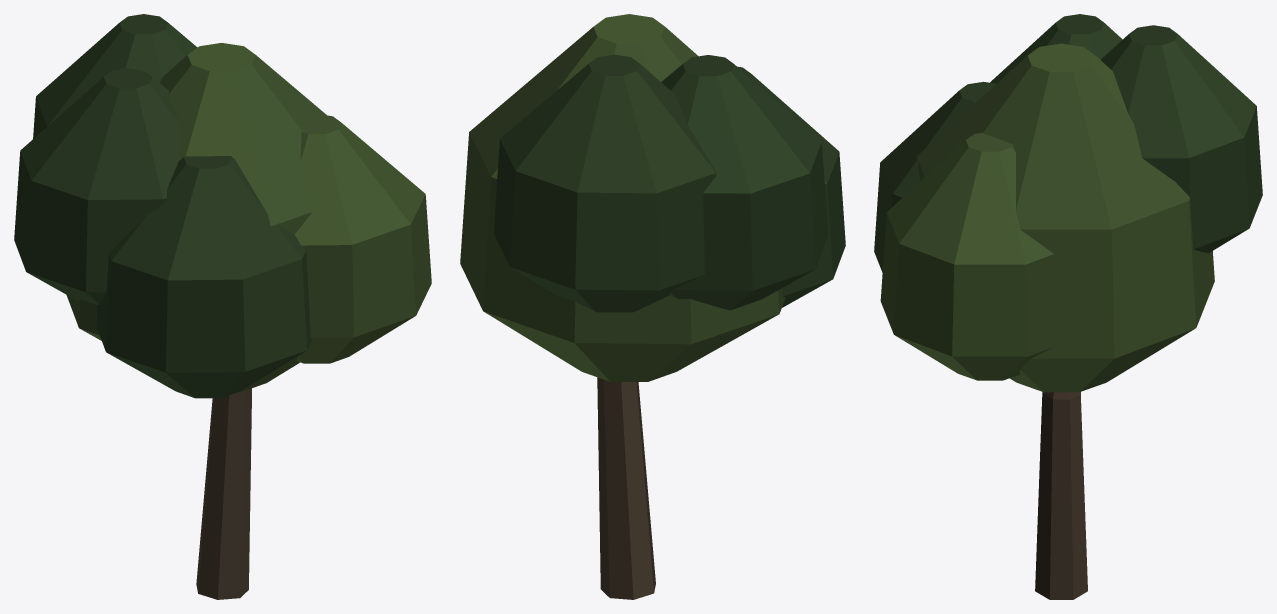
The model's file is walk_prop_tree.glb.
3 views of the same model, side by side, from view 1: azimuth 30°, elevation 25°; view 2: azimuth 150°, elevation 25°; view 3: azimuth 270°, elevation 25° (orthographic). The views are drawn at different scales.
Visible parts, largest first — view 1: walk_prop_tree; view 2: walk_prop_tree; view 3: walk_prop_tree.
Boxes of the visible parts, <box> form: walk_prop_tree: <box>14,14,431,599</box>; walk_prop_tree: <box>460,14,845,599</box>; walk_prop_tree: <box>874,14,1262,599</box>.
Bounding box in the file's own units: 3.18 × 4.81 × 3.15.
1 material, 1 textured.
